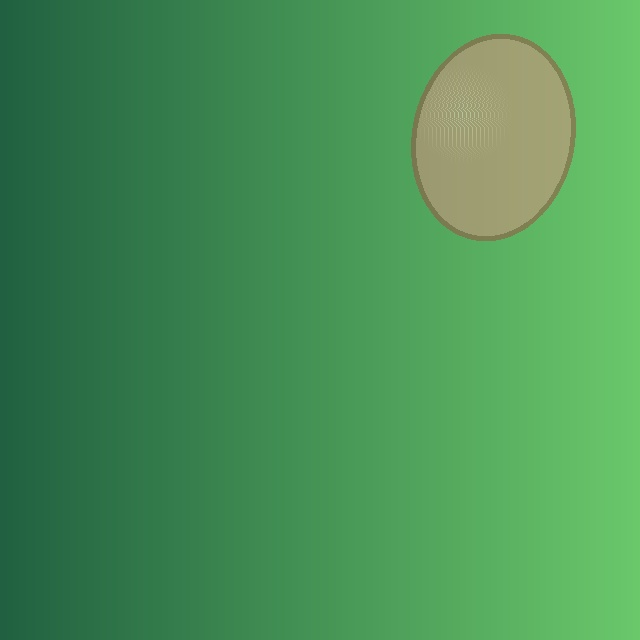lens: (413, 36, 573, 238)
